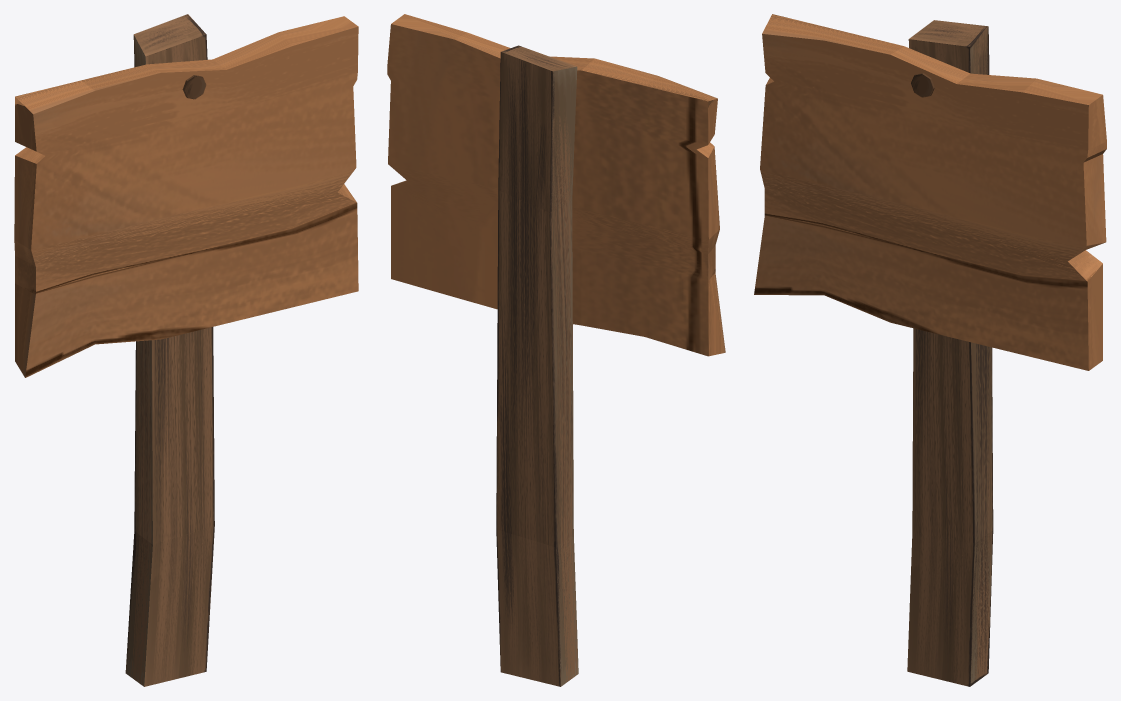
Rendered from wood-sign.fbx.
The picture shows the model from 3 angles, left to right: view 1: azimuth 30°, elevation 25°; view 2: azimuth 150°, elevation 25°; view 3: azimuth 330°, elevation 25°; orthographic projection. The views are drawn at different scales.
Visible parts, largest first — view 1: board, pilar.005; view 2: board, pilar.005; view 3: board, pilar.005.
Boxes of the visible parts, x1,y1,x2,y2 form: board: (14, 16, 358, 377); pilar.005: (125, 14, 214, 686); board: (387, 14, 725, 356); pilar.005: (496, 45, 578, 686); board: (754, 14, 1106, 370); pilar.005: (907, 20, 993, 686).
Bounding box in the file's own units: 485 × 886 × 91.61.
3 materials, 3 textured.
